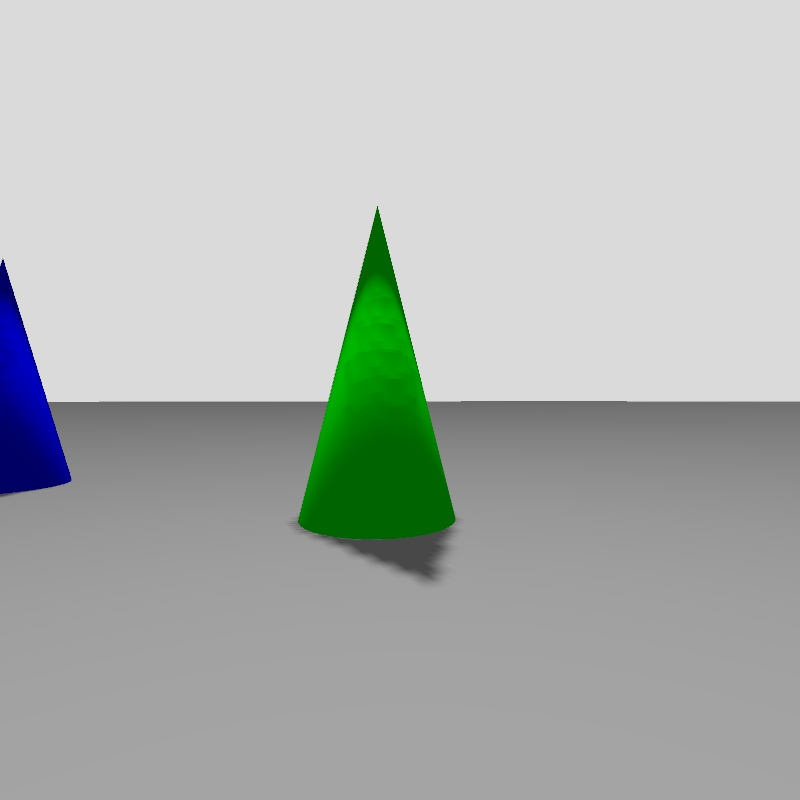Blue_cone: (0, 262, 70, 493)
Green_cone: (298, 208, 455, 539)
